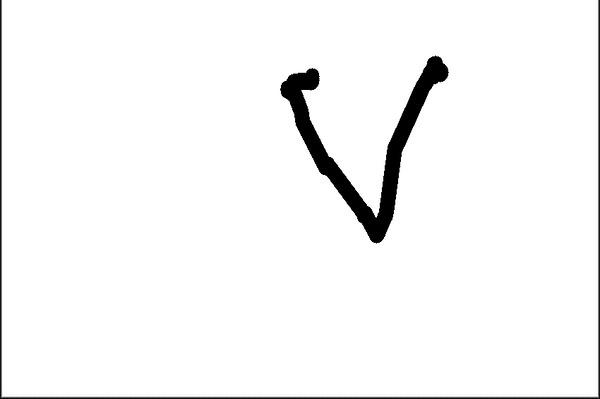V: (270, 45, 456, 252)
